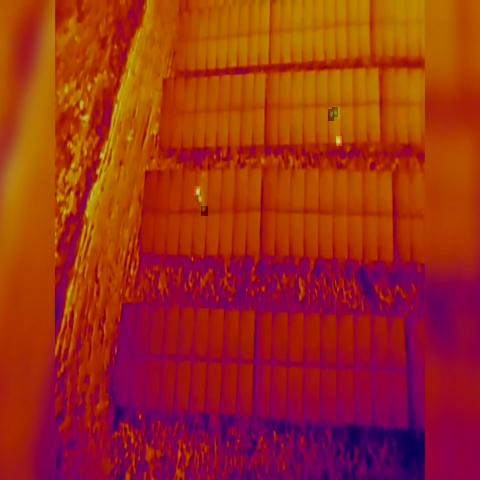fault: (328, 109, 334, 121), (201, 206, 208, 216), (332, 108, 338, 118), (336, 136, 342, 146), (194, 186, 200, 196), (197, 195, 203, 205)
